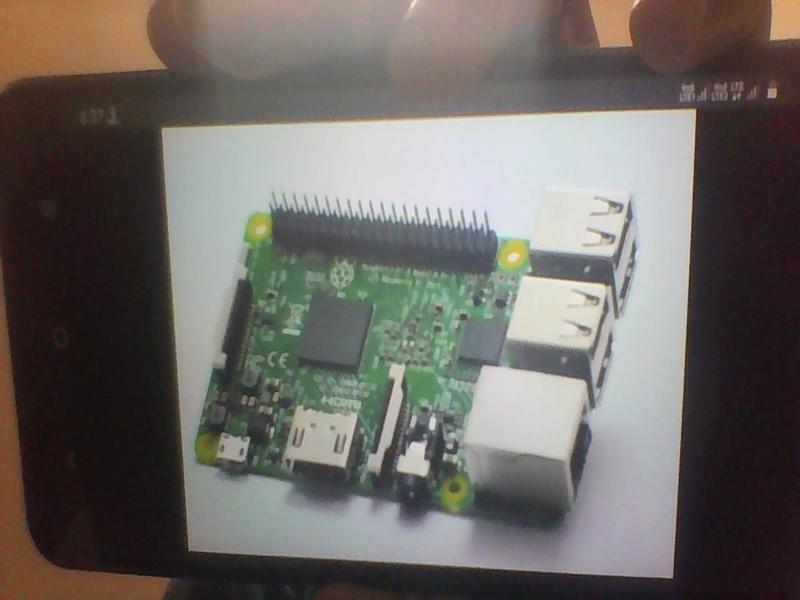aud: (393, 406, 443, 508)
eth: (469, 365, 586, 496)
usb: (506, 274, 614, 359), (528, 187, 640, 268)
